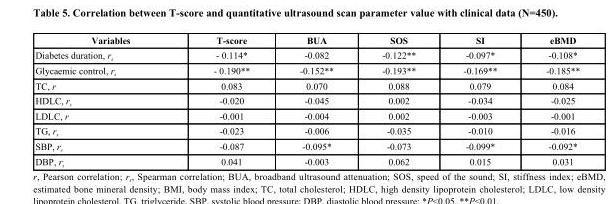table: (34, 34, 579, 167)
table column: (34, 34, 171, 167), (171, 34, 274, 167), (274, 34, 357, 167), (438, 34, 520, 167), (357, 34, 438, 167), (520, 34, 579, 167)
table column header: (34, 34, 579, 47)
table row: (34, 62, 579, 78), (34, 92, 579, 108), (34, 122, 579, 138), (34, 47, 579, 62), (34, 138, 579, 153), (34, 78, 579, 92), (34, 108, 579, 122), (34, 153, 579, 167), (34, 34, 579, 47)
